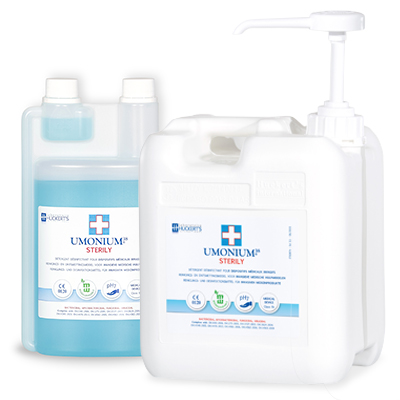Cleaning_solution: (135, 111, 365, 389), (14, 76, 168, 364)
